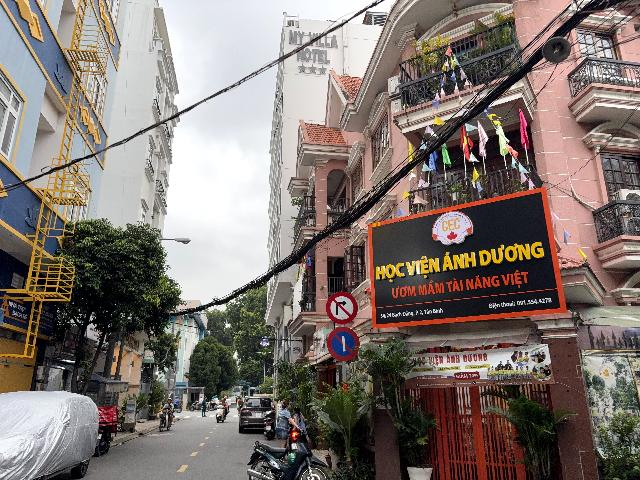cam-do-xe-ngay-le: (327, 326, 360, 361)
cam-re-phai: (325, 291, 358, 324)
